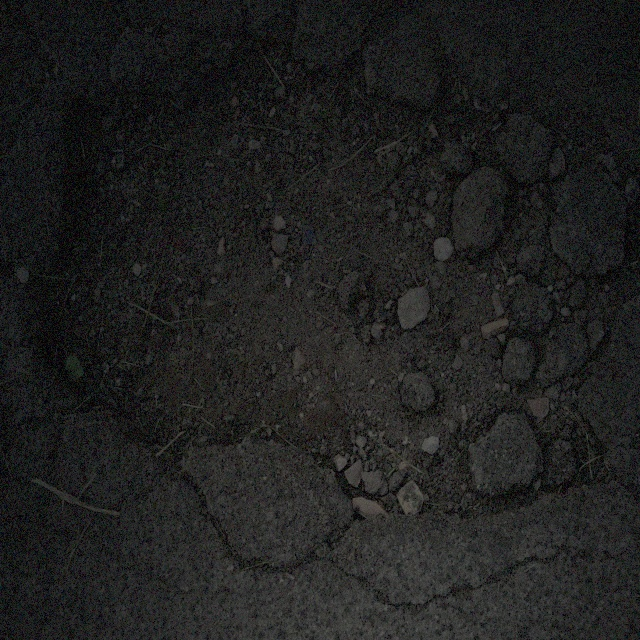pothole: (21, 30, 596, 532)
